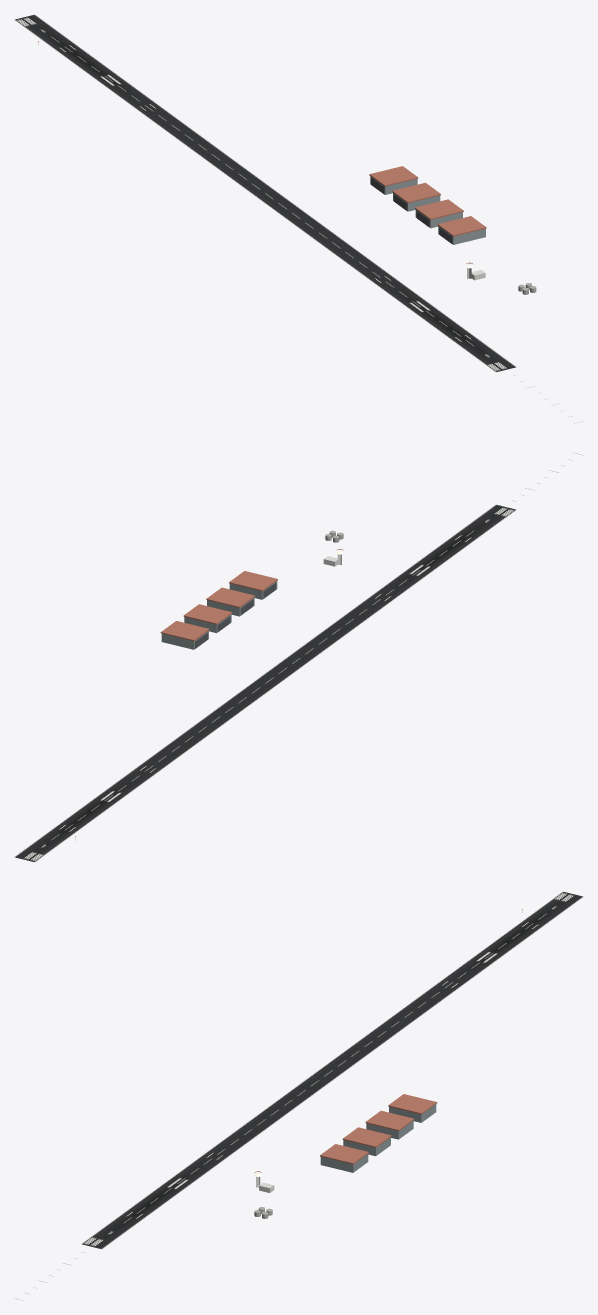
The picture shows the model from 3 angles, top to bottom: view 1: azimuth 30°, elevation 25°; view 2: azimuth 150°, elevation 25°; view 3: azimuth 330°, elevation 25°; orthographic projection.
Parts seen in each view (by area): view 1: Runway, Roof, Cladding; view 2: Runway, Roof, Cladding; view 3: Runway, Roof, Cladding.
Boxes of the visible parts, box(x1,y1,x2,y2) form: Runway: box(14, 14, 516, 372); Roof: box(369, 166, 486, 264); Cladding: box(370, 176, 485, 244); Runway: box(14, 504, 516, 862); Roof: box(160, 549, 343, 641); Cladding: box(161, 581, 277, 649); Runway: box(81, 891, 583, 1249); Roof: box(254, 1094, 437, 1172); Cladding: box(320, 1104, 436, 1172).
Bounding box in the file's own units: 301 × 33.35 × 2072.
Materials: 12 (1 with a texture image).
